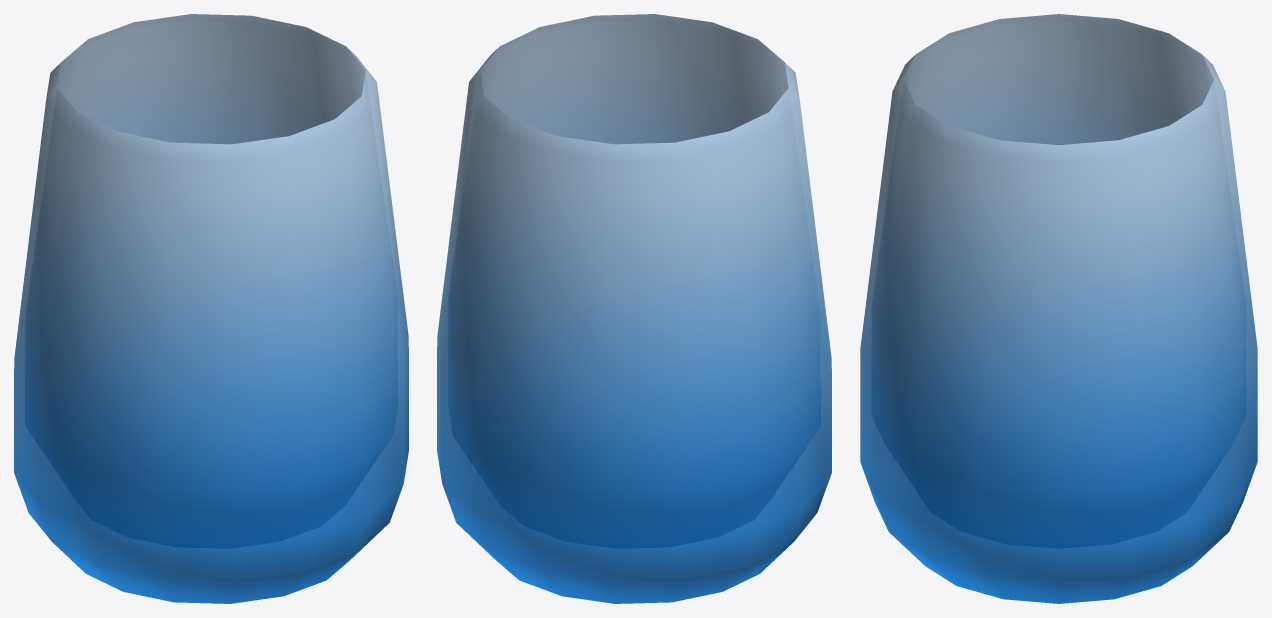
File: glass.glb
3 renders of one model, left to right at view 1: azimuth 30°, elevation 25°; view 2: azimuth 150°, elevation 25°; view 3: azimuth 270°, elevation 25°, orthographic.
Visible parts, largest first — view 1: Glass; view 2: Glass; view 3: Glass.
Part boxes in pixels (x1,y1,x2,y2): Glass: [14, 14, 408, 603]; Glass: [437, 14, 831, 603]; Glass: [860, 14, 1257, 603].
Size of the model in its own units: 7 by 9 by 7.
Materials: 1 (1 with a texture image).
